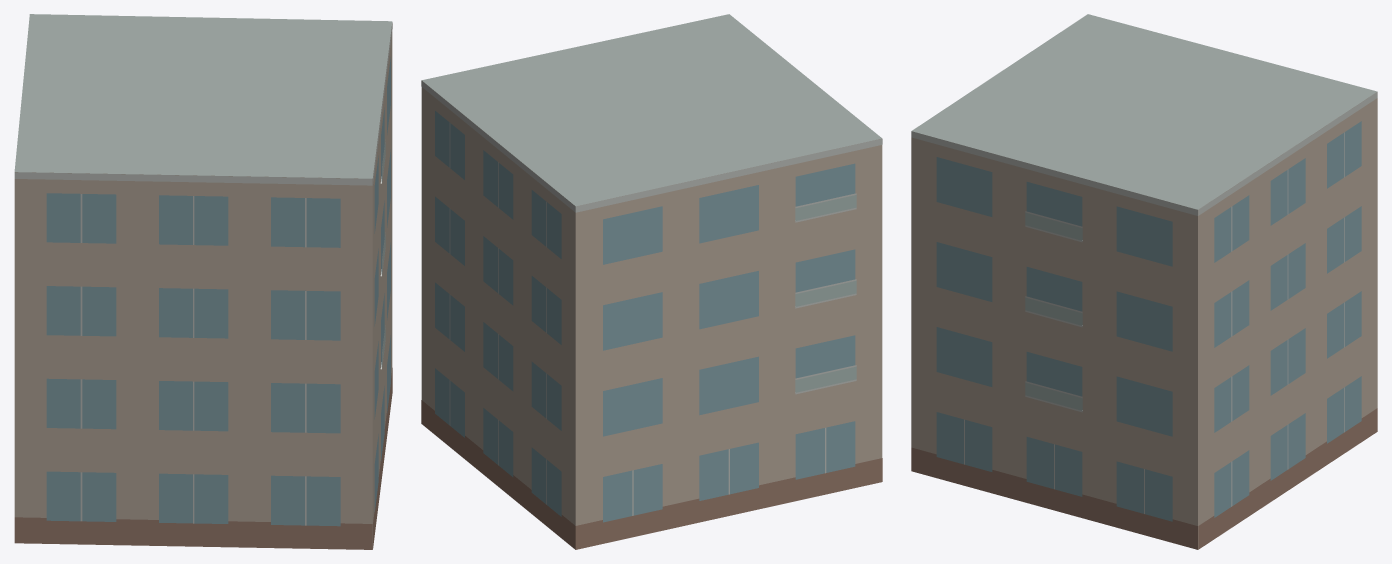
The model's file is survey-upis-33018603.glb.
The picture shows the model from 3 angles, left to right: view 1: azimuth 30°, elevation 25°; view 2: azimuth 150°, elevation 25°; view 3: azimuth 270°, elevation 25°; orthographic projection. The views are drawn at different scales.
Visible parts, largest first — view 1: survey-upis-33018603.tmp; view 2: survey-upis-33018603.tmp; view 3: survey-upis-33018603.tmp.
Boxes of the visible parts, x1,y1,x2,y2 form: survey-upis-33018603.tmp: [14, 14, 392, 549]; survey-upis-33018603.tmp: [421, 14, 882, 549]; survey-upis-33018603.tmp: [911, 14, 1377, 549].
Bounding box in the file's own units: 16.31 × 13.2 × 16.42.
